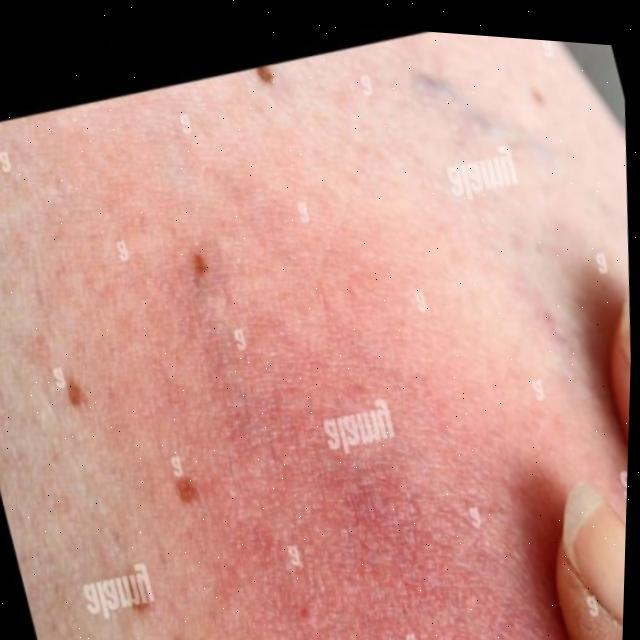Eczema: (39, 142, 544, 640)
